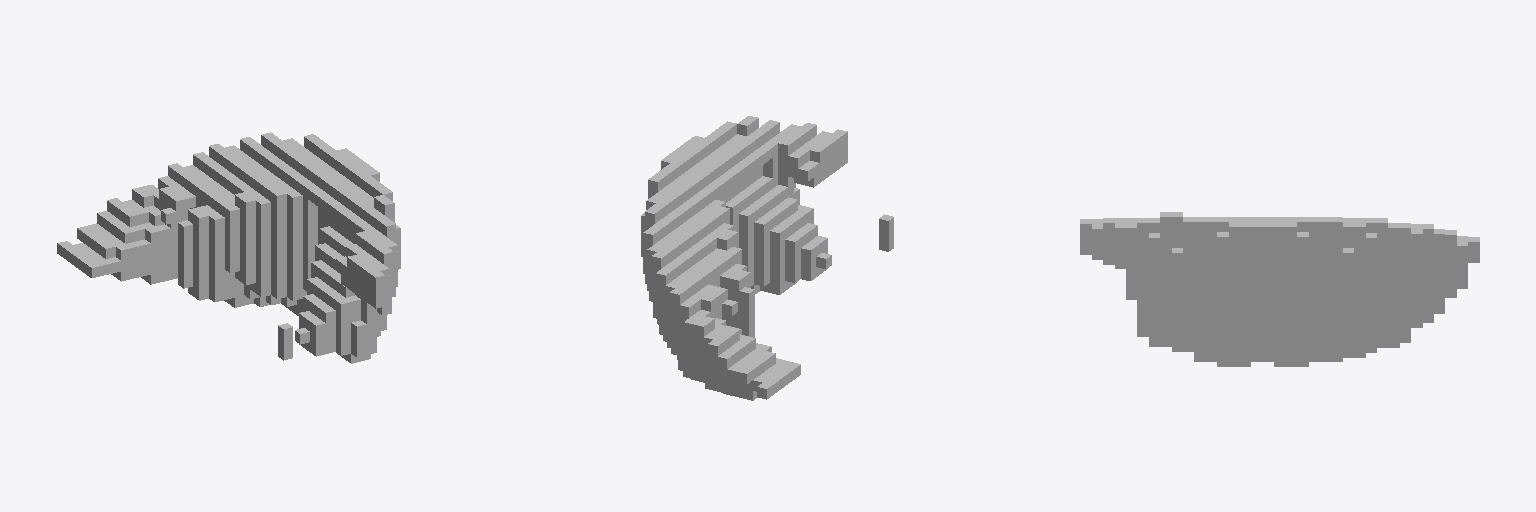
File: боковой нижний осколок.obj
3 renders of one model, left to right at view 1: azimuth 30°, elevation 25°; view 2: azimuth 150°, elevation 25°; view 3: azimuth 270°, elevation 25°, orthographic.
Parts seen in each view (by area): view 1: object 1; view 2: object 1; view 3: object 1.
Boxes of the visible parts, <box> form: object 1: <box>57,132,400,363</box>; object 1: <box>641,116,893,400</box>; object 1: <box>1080,212,1479,366</box>.
Size of the model in its own units: 2 by 1.5 by 3.5.